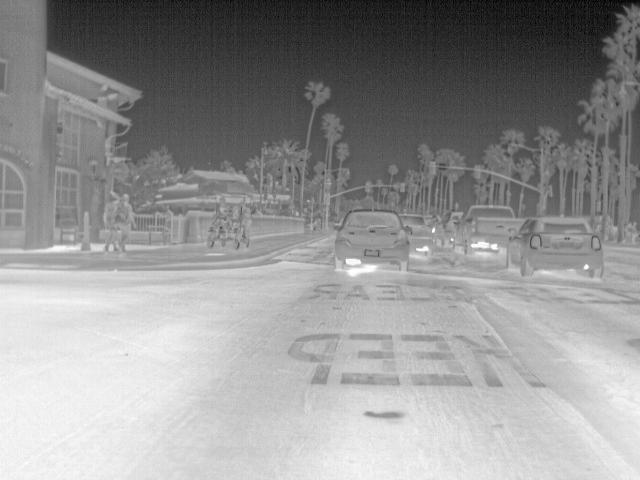car: (508, 213, 605, 280), (332, 208, 415, 270), (463, 201, 527, 253), (397, 210, 437, 252), (438, 211, 466, 247)
person: (118, 192, 138, 250), (101, 193, 120, 251), (230, 196, 250, 233), (213, 197, 234, 231)
